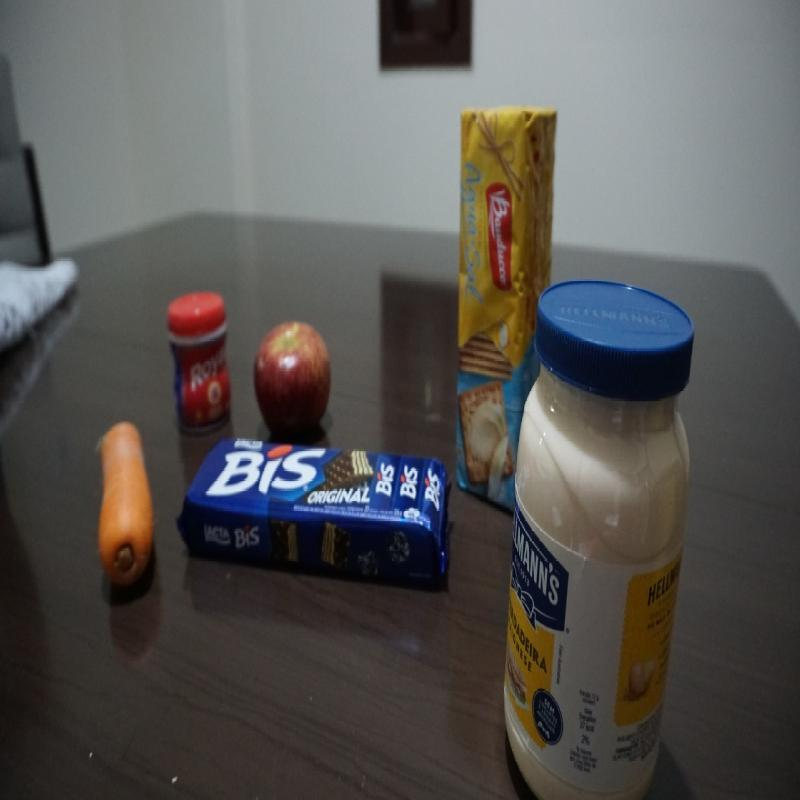Apple: (253, 319, 332, 444)
Carrot: (95, 418, 158, 588)
Cracker: (454, 104, 558, 512)
Mayonnaise: (501, 278, 698, 794)
Yeast: (166, 290, 236, 439)
